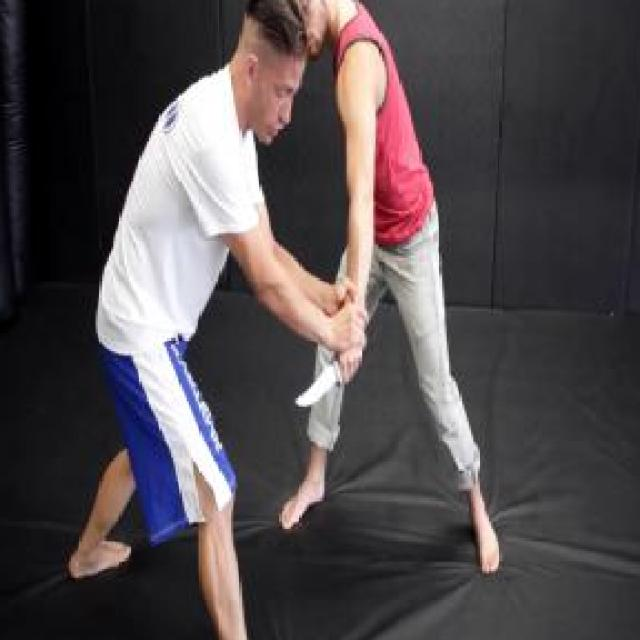knife: (290, 344, 367, 414)
